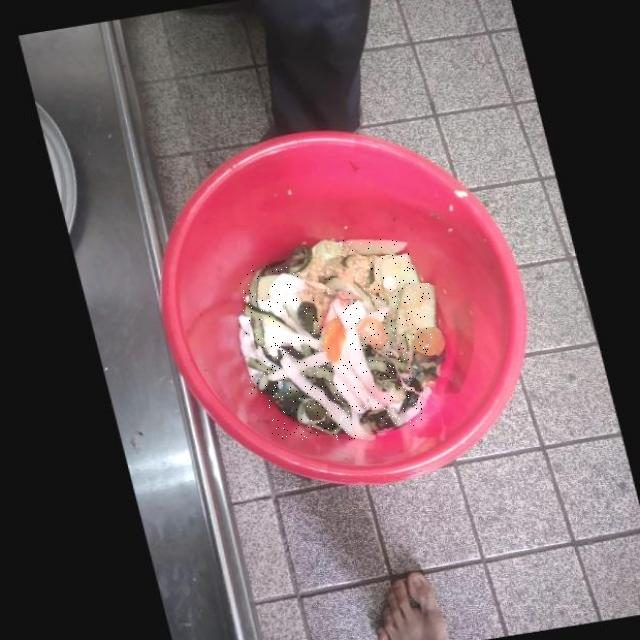biowaste: (272, 356, 366, 440), (322, 307, 382, 415), (255, 298, 332, 353), (238, 266, 290, 343), (384, 283, 430, 370), (370, 254, 414, 323), (378, 384, 422, 427), (261, 352, 320, 381), (262, 272, 300, 312), (319, 278, 368, 307), (313, 316, 339, 365), (334, 240, 402, 255), (364, 371, 398, 400), (396, 361, 433, 387), (406, 328, 437, 357), (350, 316, 379, 347), (353, 411, 387, 432), (290, 302, 309, 336), (350, 309, 384, 328), (360, 361, 389, 379), (267, 399, 296, 417), (337, 300, 359, 320), (296, 400, 316, 421), (392, 391, 412, 412), (295, 368, 326, 381), (250, 375, 270, 395), (401, 377, 415, 394), (307, 420, 334, 428)
